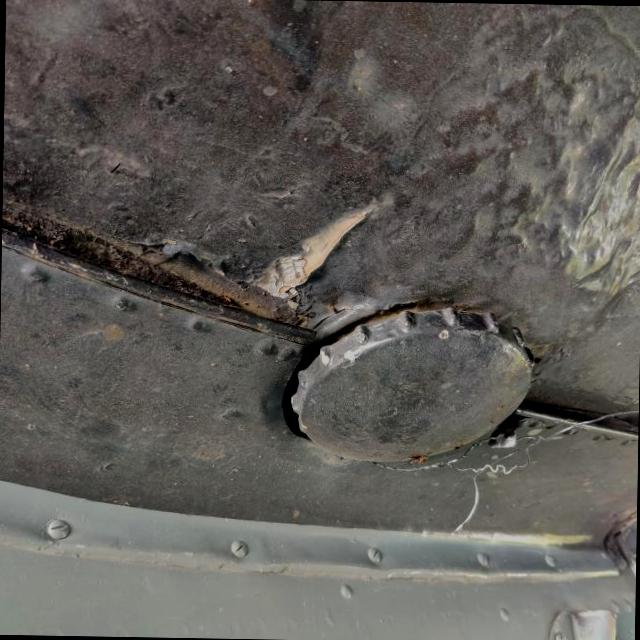paint-off: (249, 193, 383, 305)
